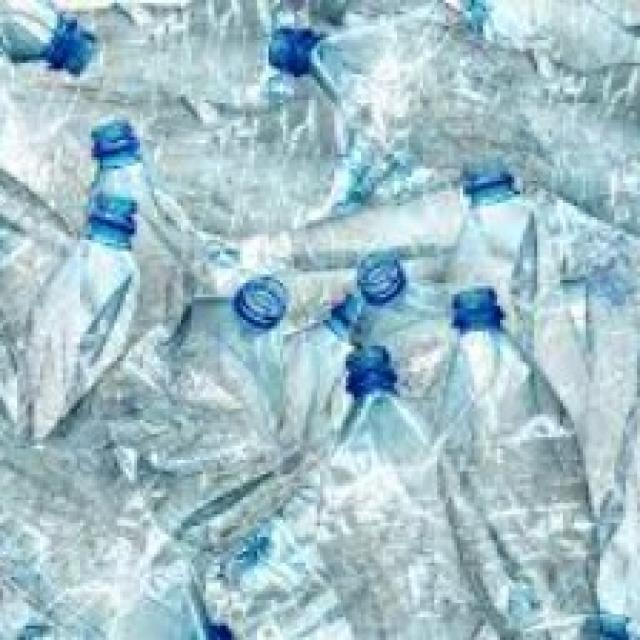heap: (25, 46, 618, 635)
plastic_bottle: (421, 285, 631, 640), (258, 19, 498, 155), (319, 339, 438, 545), (43, 185, 149, 414), (179, 241, 292, 437), (84, 103, 158, 230)
